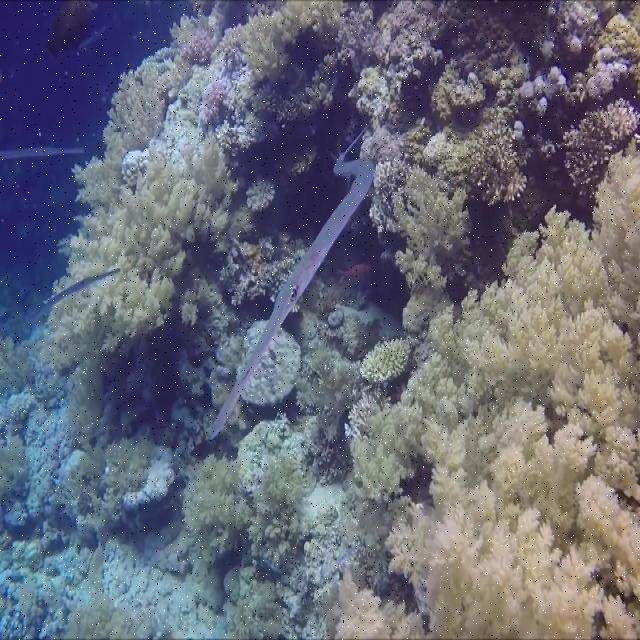fish: (206, 125, 375, 438), (0, 146, 84, 158)
reefs: (32, 0, 639, 639), (321, 148, 639, 639)
